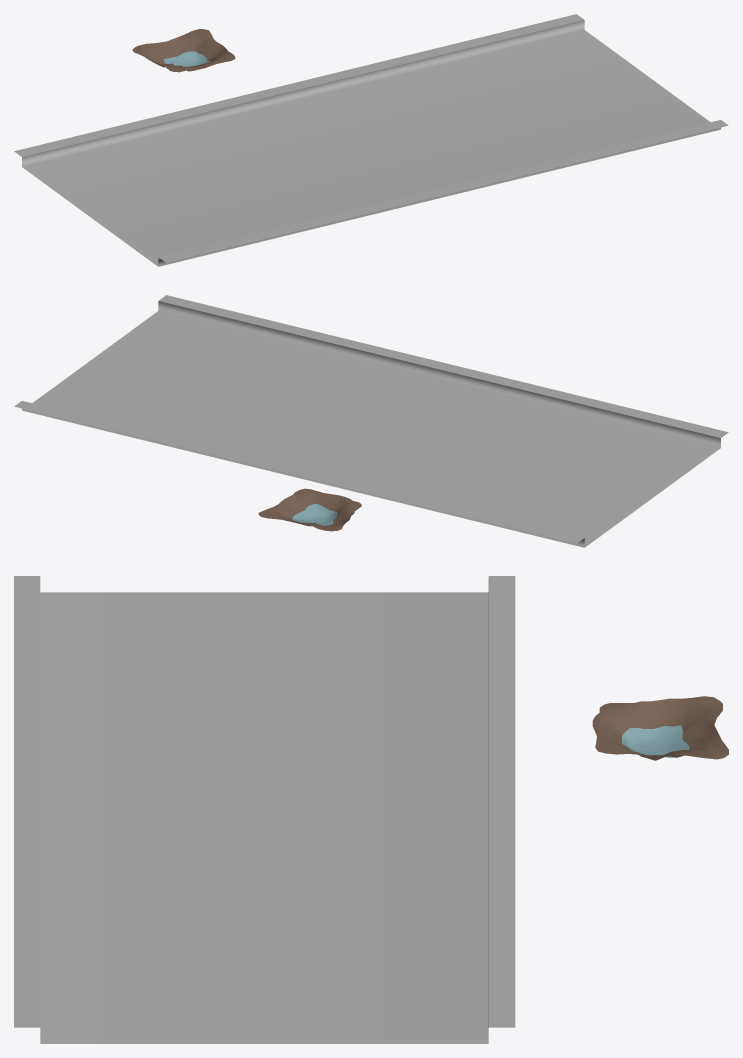
The model's file is PotholeAndRoad.fbx.
3 views of the same model, one above another, from view 1: azimuth 30°, elevation 25°; view 2: azimuth 150°, elevation 25°; view 3: azimuth 270°, elevation 25° (orthographic). The views are drawn at different scales.
Visible parts, largest first — view 1: Road, pPlane1; view 2: Road, pPlane1; view 3: Road, pPlane1.
Part boxes in pixels (bbox=[...]): Road: bbox=[14, 14, 728, 266]; pPlane1: bbox=[132, 29, 235, 72]; Road: bbox=[14, 295, 728, 547]; pPlane1: bbox=[258, 488, 361, 531]; Road: bbox=[14, 576, 515, 1043]; pPlane1: bbox=[592, 696, 728, 760].
Bounding box in the file's own units: 73.16 × 2.97 × 48.98.
